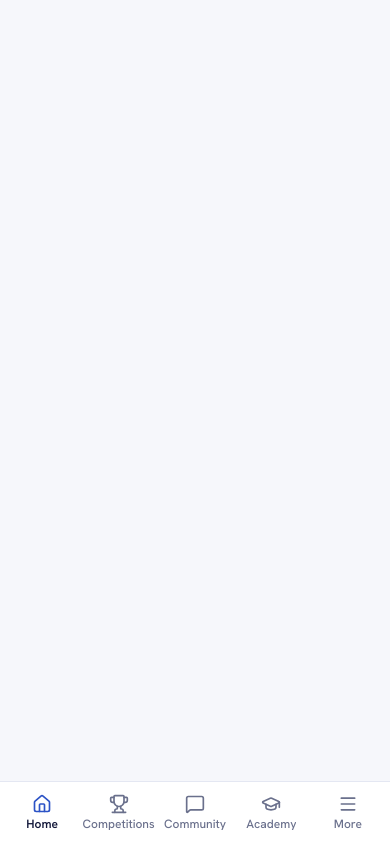
Test: AppSidebar on a phone › reaches every section through More
Click the button "More" at (348, 812), box x1=310 y1=790 x2=386 y2=834
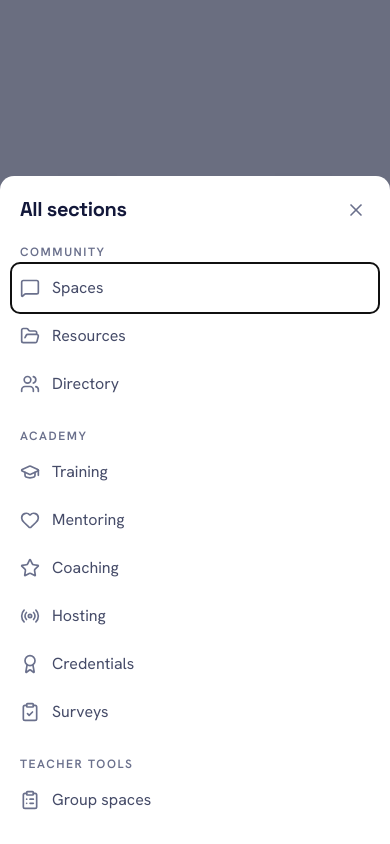
Expected: the link "Spaces" is shown, x1=20 y1=277 x2=104 y2=298
Expected: the link "Resources" is shown, x1=20 y1=325 x2=126 y2=346
Expected: the link "Directory" is shown, x1=20 y1=373 x2=119 y2=394
